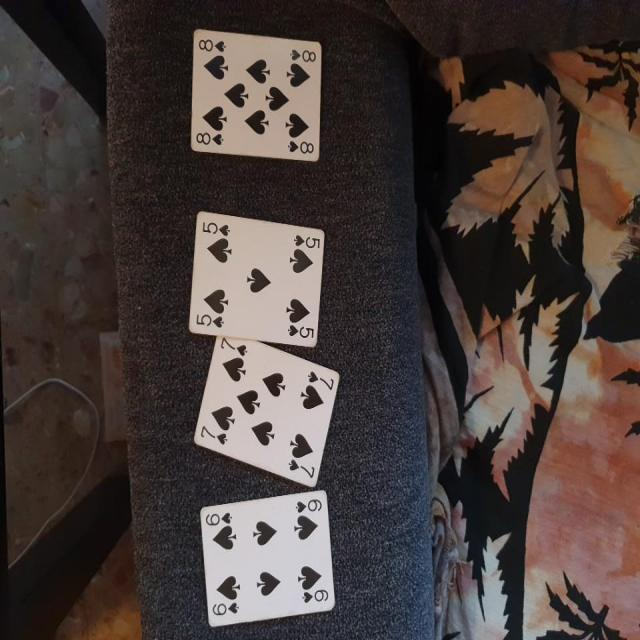5 of spades: (182, 202, 332, 352)
6 of spades: (196, 481, 338, 640)
7 of spades: (188, 334, 354, 497)
8 of spades: (184, 24, 326, 167)
